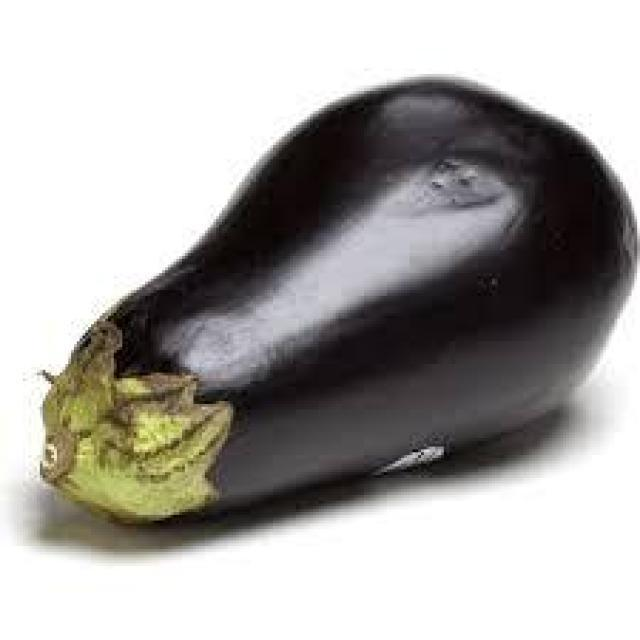eggplant: (39, 75, 636, 528)
